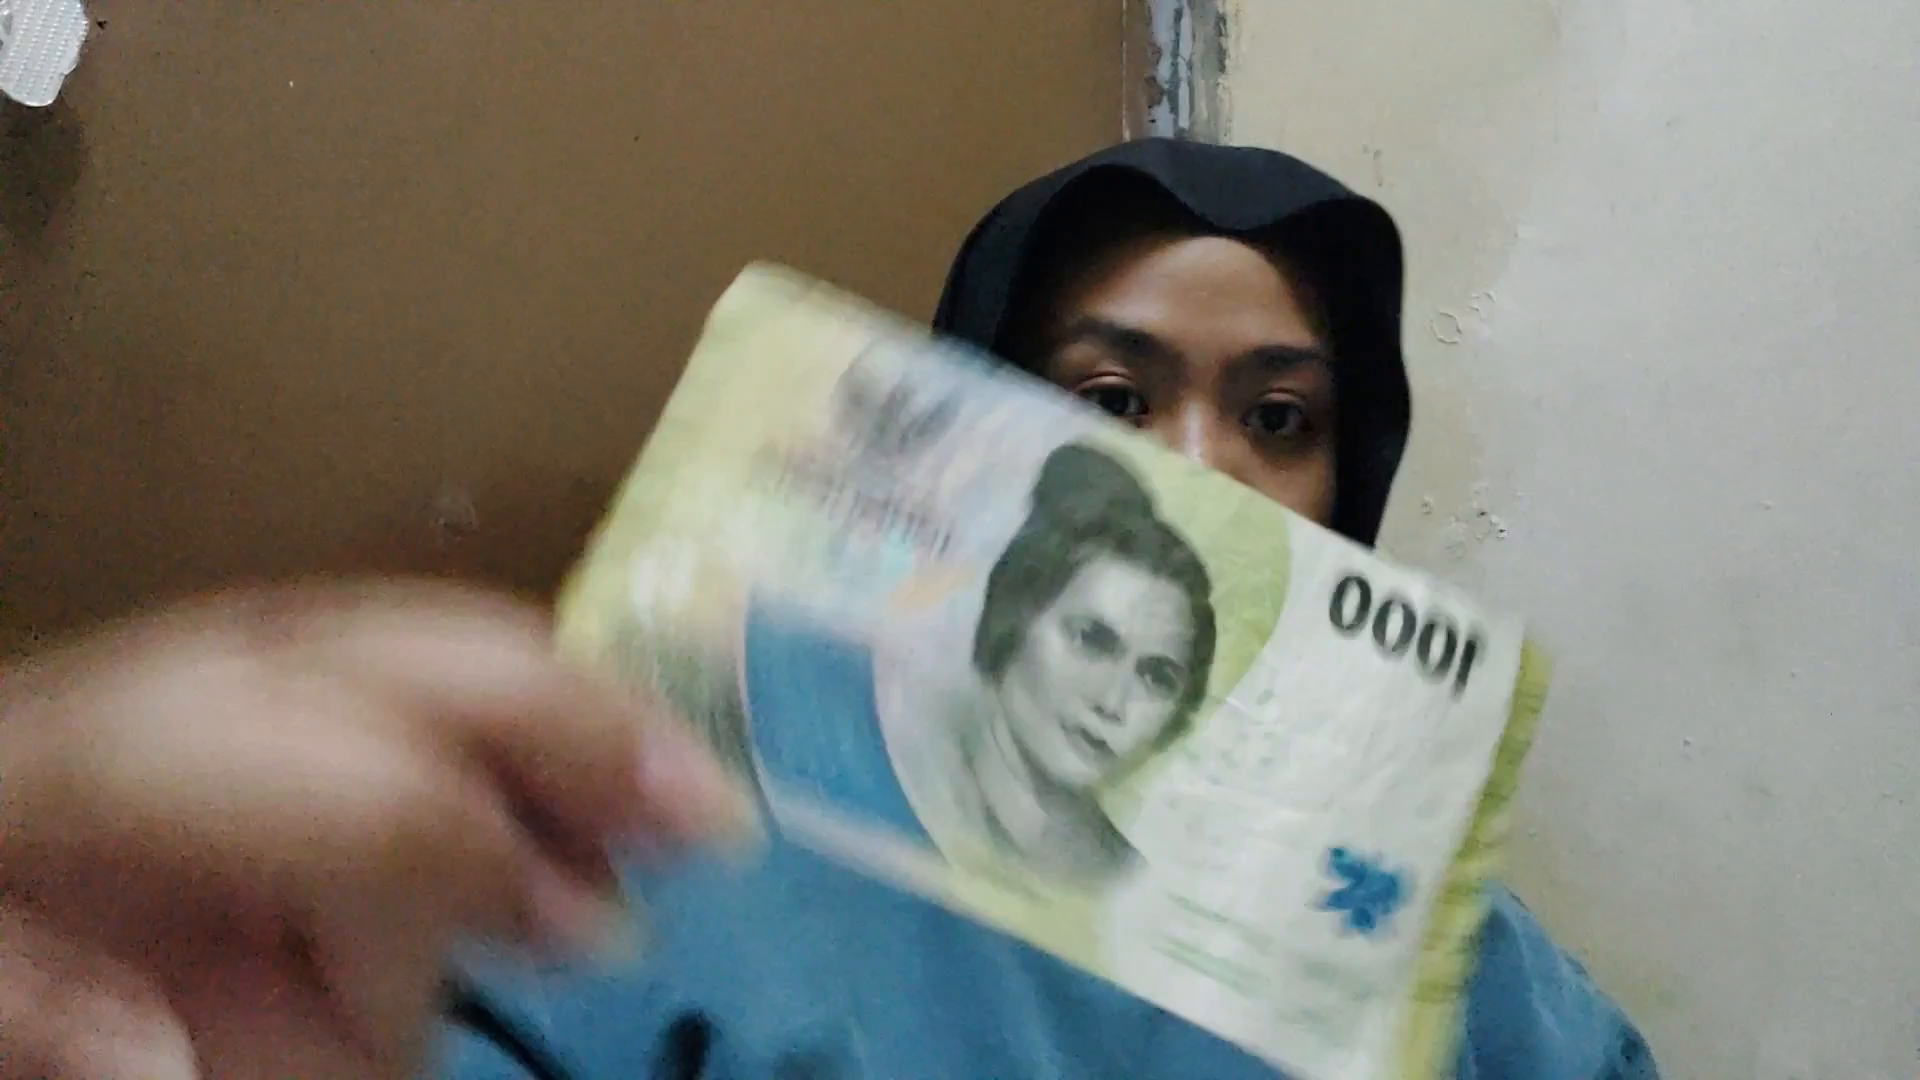1k: (748, 237, 1654, 717)
